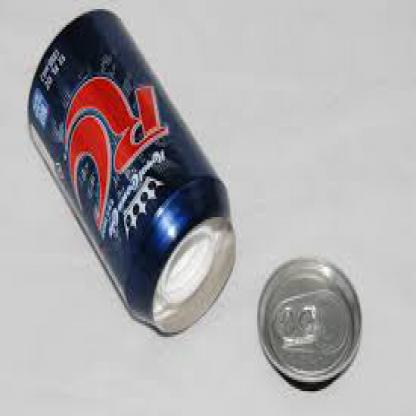Compsot: (26, 6, 235, 334), (254, 256, 360, 393)
